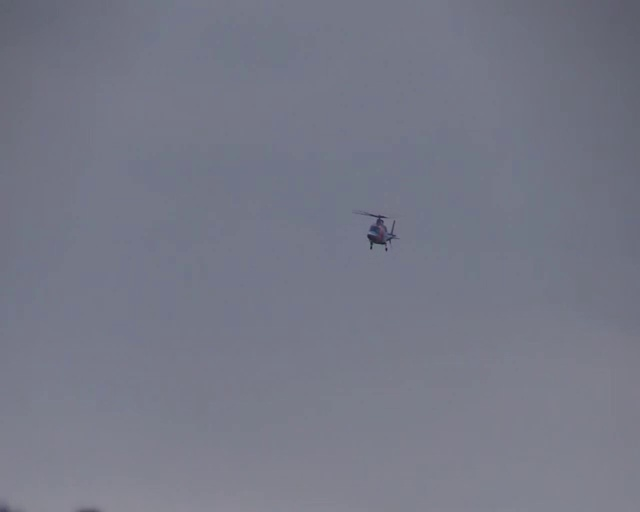HELICOPTER: (353, 210, 400, 252)
